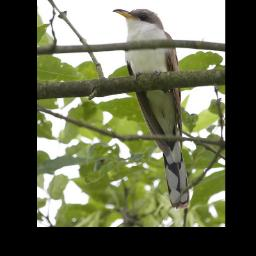Cuckoo: (111, 7, 190, 210)
